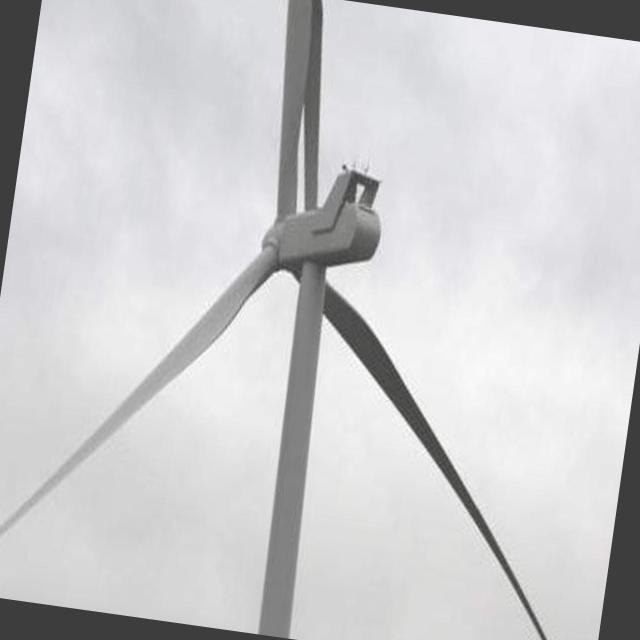crack: (246, 0, 355, 227)
